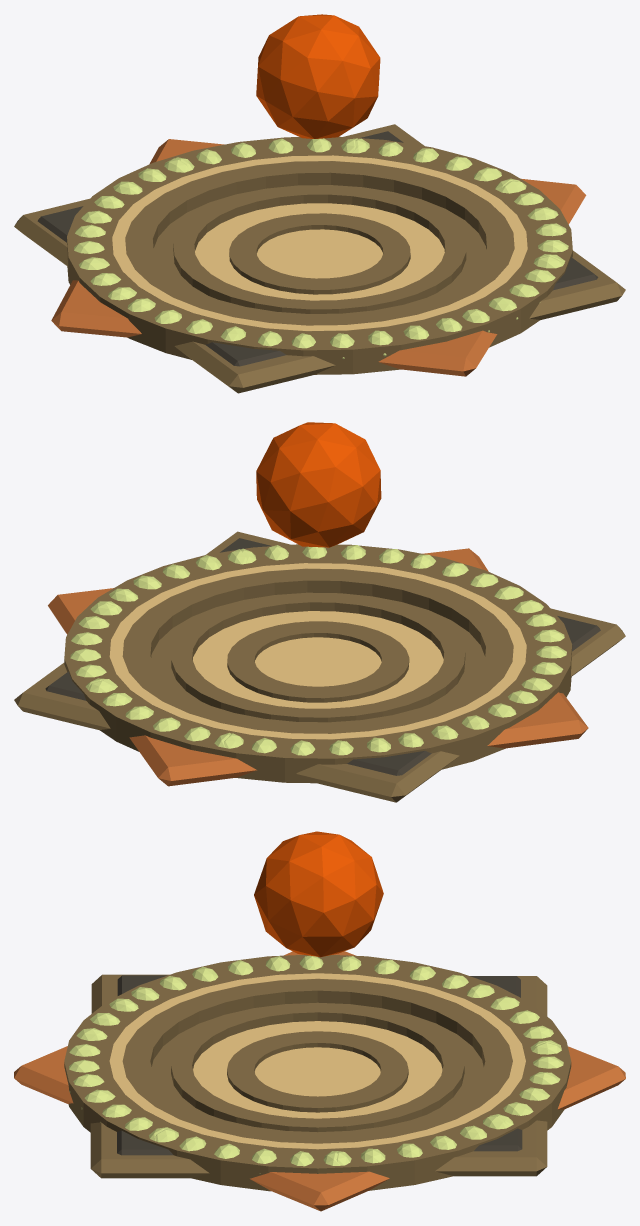
Rendered from Plate_2.fbx.
3 renders of one model, top to bottom at view 1: azimuth 30°, elevation 25°; view 2: azimuth 150°, elevation 25°; view 3: azimuth 270°, elevation 25°, orthographic.
Parts seen in each view (by area): view 1: Cylinder.014, Cylinder.015, Icosphere.005, Icosphere.001, Cube.036, Cube.046, Cube.043, Cube.038, Cube.032, Cube.044, Cube.042, Cube.045 (+3 smaller); view 2: Cylinder.014, Cylinder.015, Icosphere.005, Icosphere.001, Cube.032, Cube.045, Cube.043, Cube.037, Cube.036, Cube.044, Cube.041, Cube.042 (+3 smaller); view 3: Cylinder.014, Cylinder.015, Icosphere.005, Icosphere.001, Cube.038, Cube.044, Cube.037, Cube.045, Cube.046, Cube.036, Cube.040, Cube.032 (+1 smaller).
Part boxes in pixels (<box>): Cylinder.014: <box>67,136,572,374</box>; Cylinder.015: <box>112,155,527,331</box>; Icosphere.005: <box>256,14,380,138</box>; Icosphere.001: <box>74,138,568,358</box>; Cube.036: <box>174,341,335,393</box>; Cube.046: <box>378,330,497,376</box>; Cube.043: <box>51,280,141,337</box>; Cube.038: <box>529,250,625,319</box>; Cube.032: <box>14,198,89,266</box>; Cube.044: <box>521,178,586,224</box>; Cube.042: <box>205,342,286,366</box>; Cube.045: <box>149,139,224,164</box>; Cylinder.014: <box>64,544,572,783</box>; Cylinder.015: <box>109,563,526,739</box>; Icosphere.005: <box>256,422,381,547</box>; Icosphere.001: <box>70,545,566,755</box>; Cube.032: <box>296,751,459,802</box>; Cube.045: <box>129,735,256,786</box>; Cube.043: <box>487,692,588,748</box>; Cube.037: <box>14,663,110,730</box>; Cube.036: <box>551,608,625,676</box>; Cube.044: <box>48,588,113,634</box>; Cube.041: <box>347,751,431,775</box>; Cube.042: <box>557,616,600,651</box>; Cylinder.014: <box>64,955,571,1191</box>; Cylinder.015: <box>109,973,525,1149</box>; Icosphere.005: <box>254,831,383,957</box>; Icosphere.001: <box>69,955,563,1173</box>; Cube.038: <box>90,1122,209,1178</box>; Cube.044: <box>250,1171,389,1211</box>; Cube.037: <box>435,1120,547,1176</box>; Cube.045: <box>557,1046,625,1109</box>; Cube.046: <box>14,1046,73,1104</box>; Cube.036: <box>91,974,169,1013</box>; Cube.040: <box>117,1130,173,1155</box>; Cube.032: <box>517,976,547,1016</box>.
Bounding box in the file's own units: 241 × 108 × 241.
